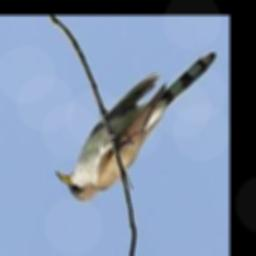Cuckoo: (57, 52, 217, 201)
